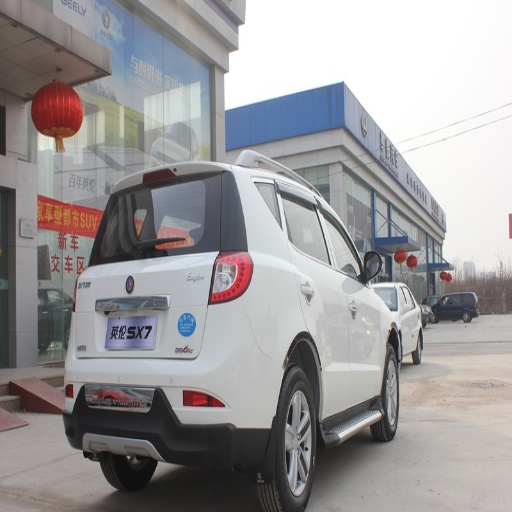back_bumper: (56, 296, 286, 461)
back_right_door: (282, 177, 349, 420)
tailgate: (75, 254, 191, 354)
trunk: (72, 253, 217, 359)
